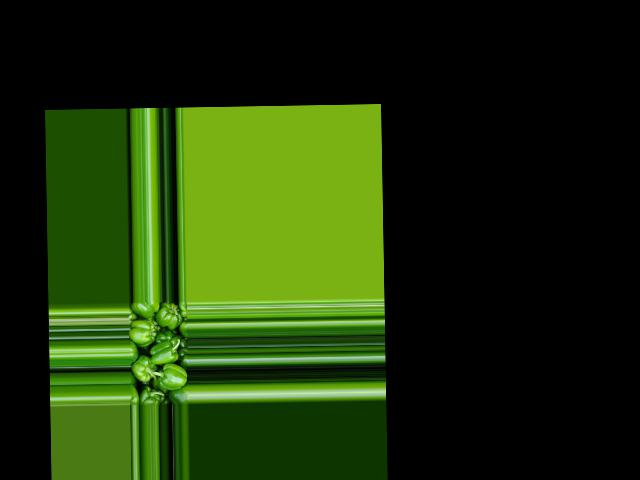bell_pepper: (169, 381, 188, 405)
